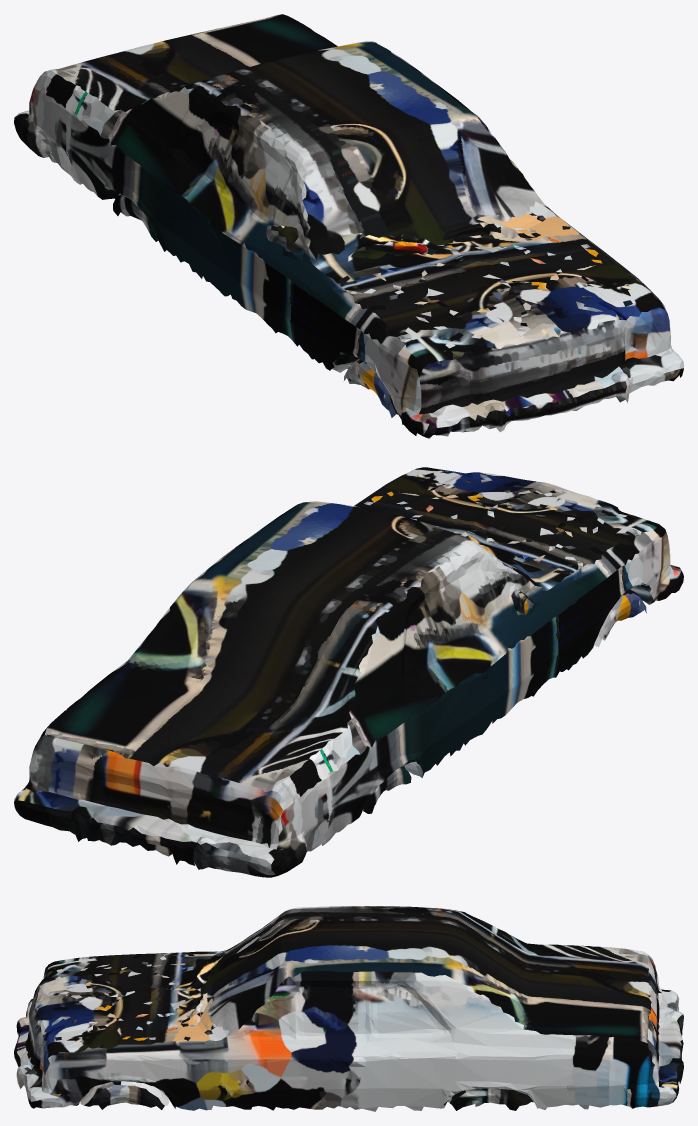
The model's file is opala-ia.glb.
3 views of the same model, one above another, from view 1: azimuth 30°, elevation 25°; view 2: azimuth 150°, elevation 25°; view 3: azimuth 270°, elevation 25° (orthographic). The views are drawn at different scales.
Parts seen in each view (by area): view 1: geometry_0; view 2: geometry_0; view 3: geometry_0.
Boxes of the visible parts, bbox=[...] form: geometry_0: bbox=[14, 14, 683, 438]; geometry_0: bbox=[14, 467, 683, 877]; geometry_0: bbox=[14, 906, 683, 1111].
Size of the model in its own units: 0.7342 by 0.4226 by 1.99.
Materials: 1 (1 with a texture image).
